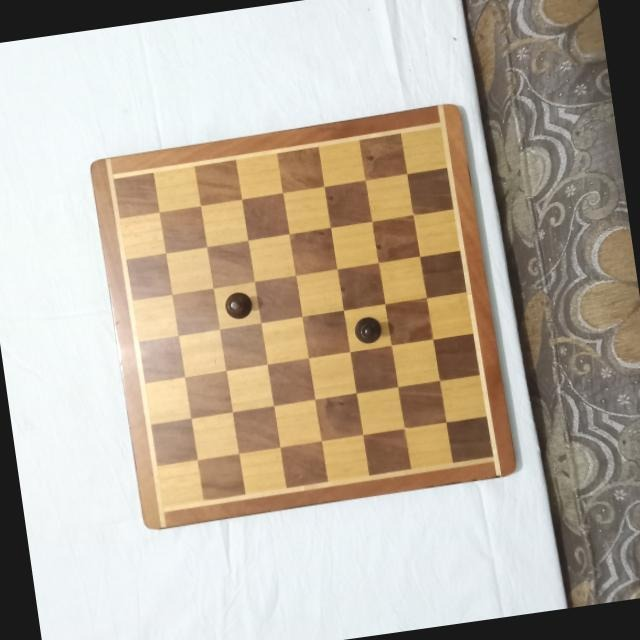black-pawn: (220, 289, 254, 323), (352, 313, 386, 347)
